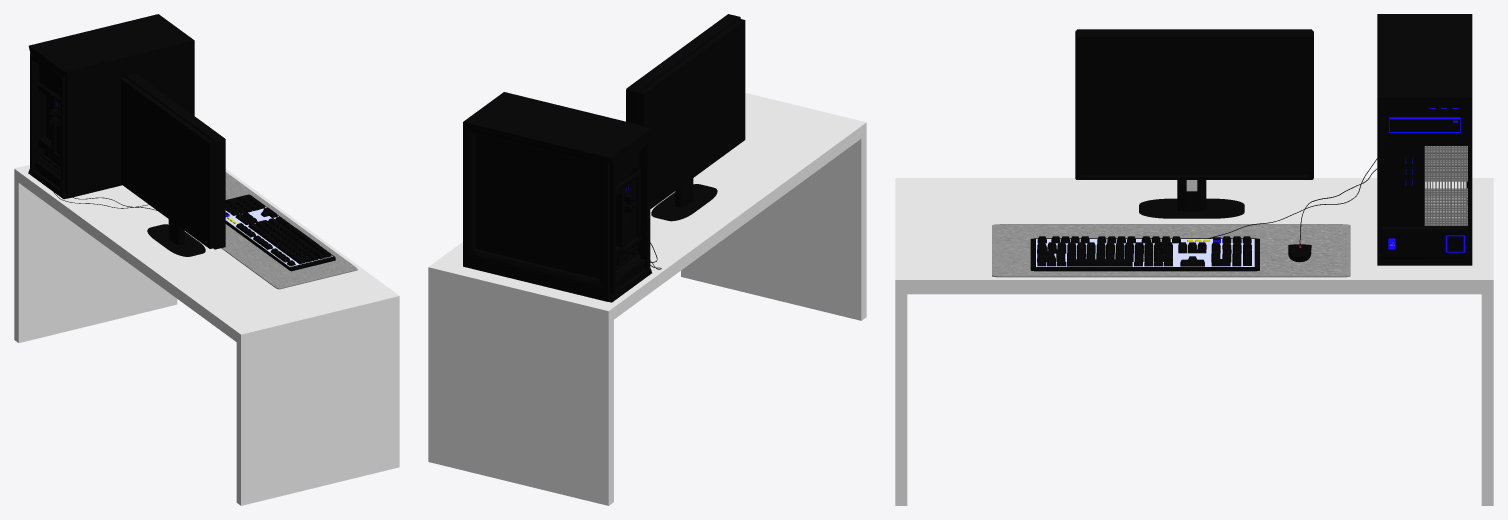
File: computer.glb
3 views of the same model, side by side, from view 1: azimuth 30°, elevation 25°; view 2: azimuth 150°, elevation 25°; view 3: azimuth 270°, elevation 25° (orthographic). The views are drawn at different scales.
Visible parts, largest first — view 1: table, cabinet, monitor, mouse pad, keys, keyboard, rgb; view 2: table, cabinet, monitor; view 3: table, monitor, cabinet, mouse pad, keys, Grill, rgb, keyboard.
Part boxes in pixels (x1,y1,x2,y2): table: (14,165,399,505); cabinet: (28,14,194,199); monitor: (121,73,225,256); mouse pad: (221,172,357,289); keys: (225,194,331,266); keyboard: (225,194,335,271); rgb: (225,206,332,266); table: (428,93,866,505); cabinet: (463,92,651,302); monitor: (626,14,745,221); table: (895,178,1493,505); monitor: (1075,29,1313,218); cabinet: (1377,14,1472,265); mouse pad: (992,224,1350,277); keys: (1037,236,1251,266); Grill: (1424,146,1467,225); rgb: (1036,239,1254,266); keyboard: (1030,238,1259,271).
Bounding box in the file's own units: 3.11 × 5.6 × 7.58.
Materials: 18 (1 with a texture image).
